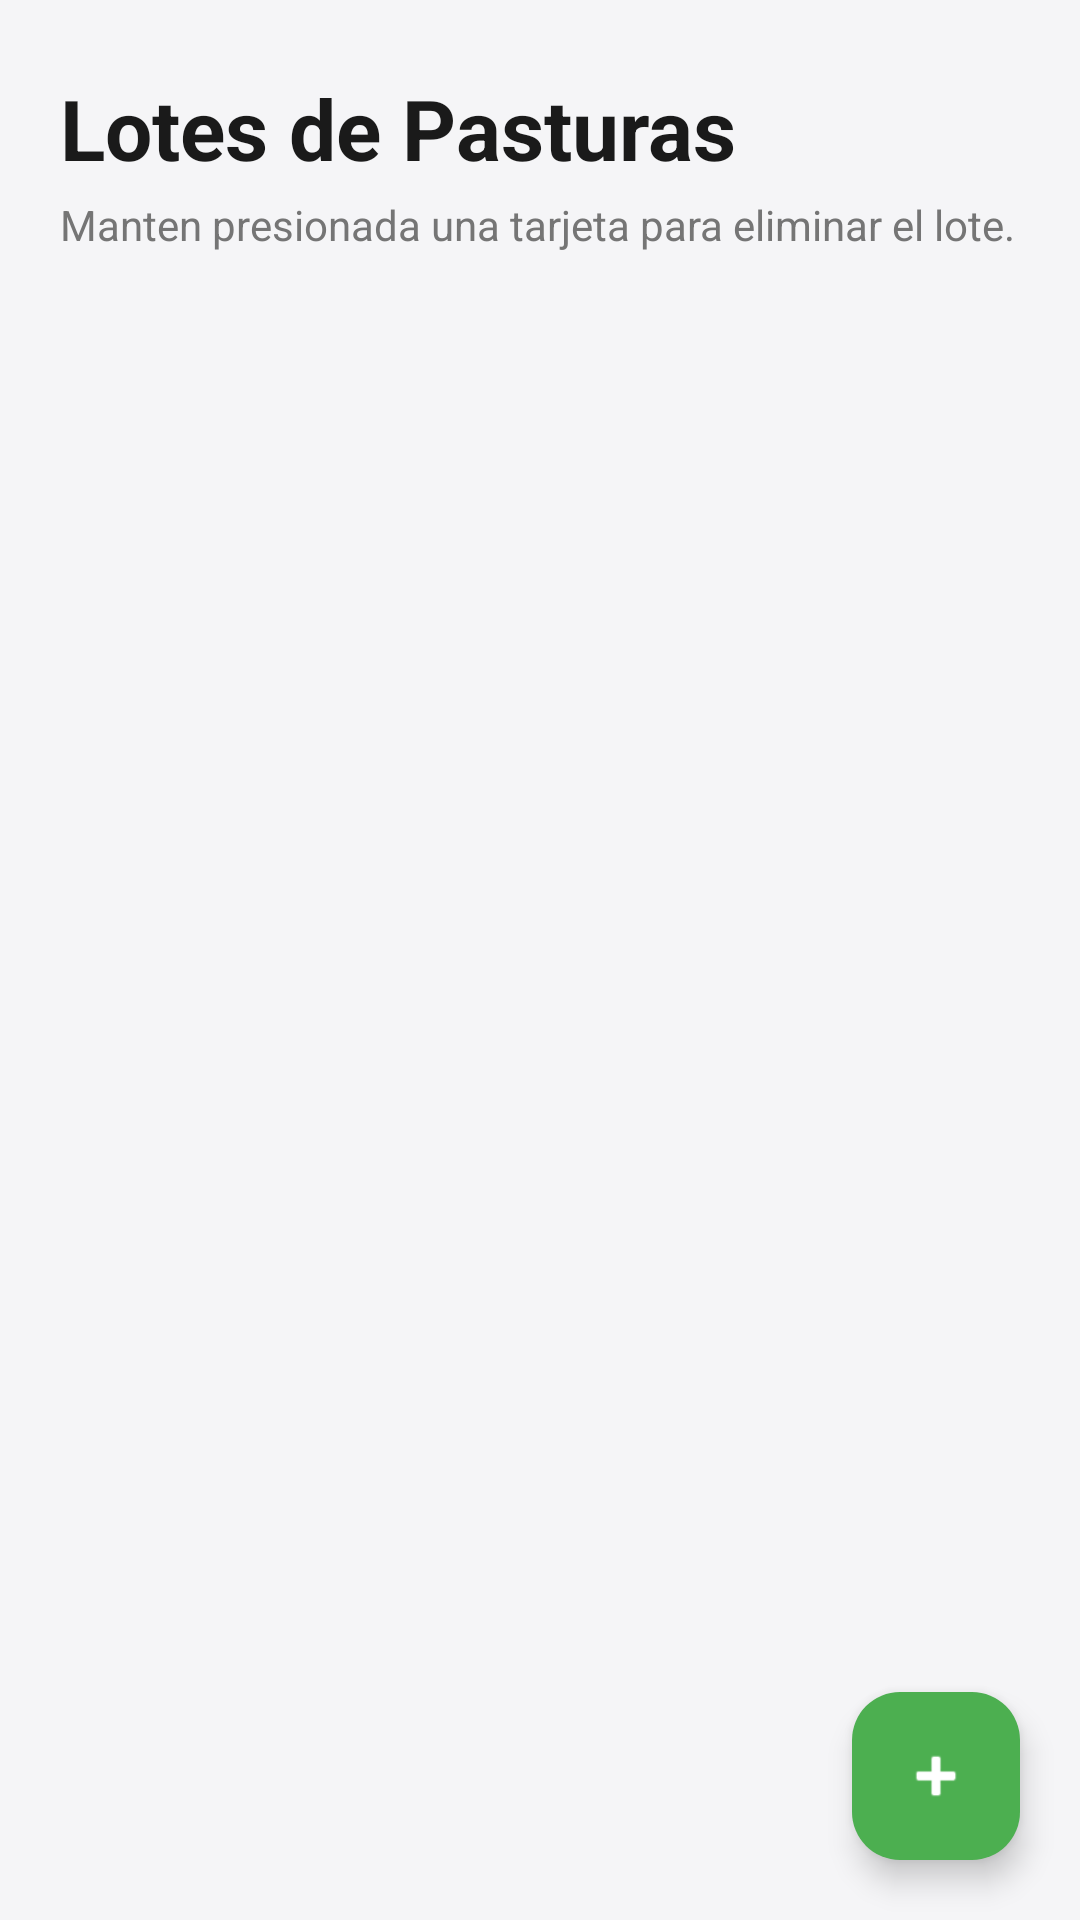

Icon bounding boxes for this 1080x1920 phone screenshot, format box(x1, y1, x2, y2):
Agregar Potrero: box(852, 1692, 1020, 1860)
